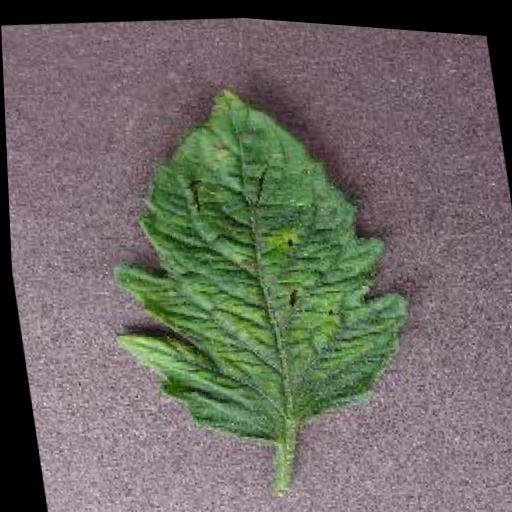Mosaic Virus: (76, 57, 427, 463)
